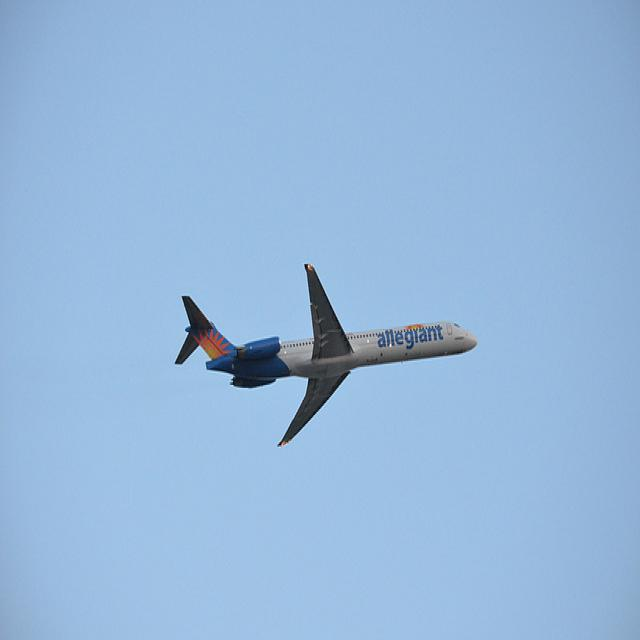airplane: (176, 264, 476, 451)
